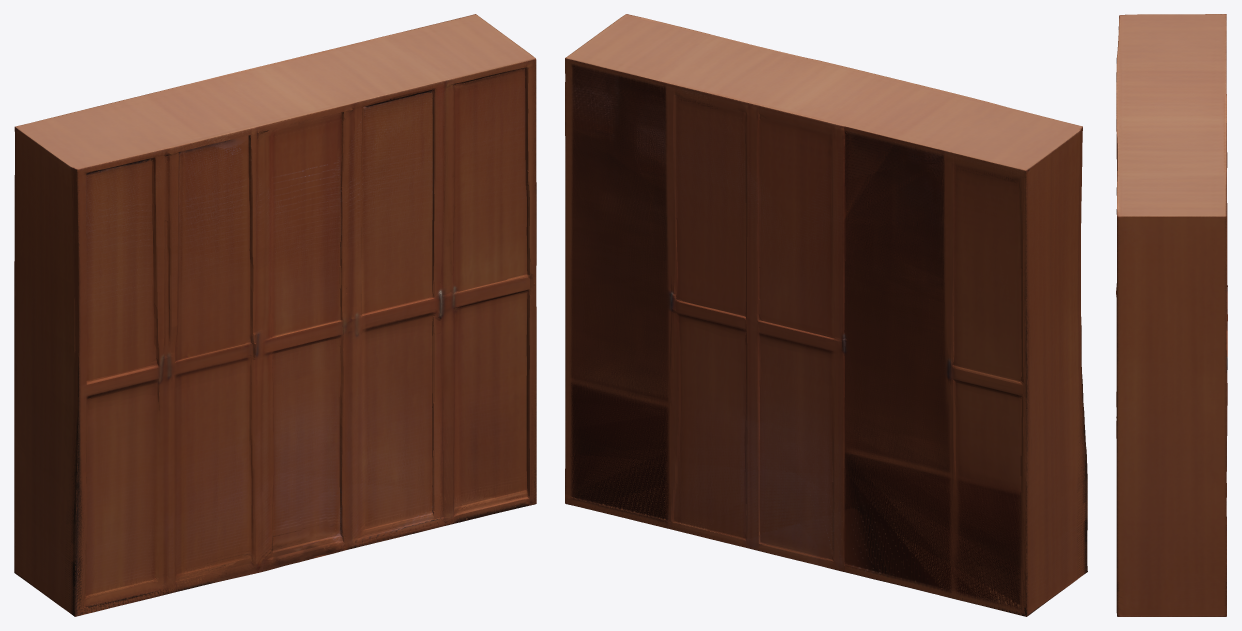
The model's file is voxhammer.glb.
3 renders of one model, left to right at view 1: azimuth 30°, elevation 25°; view 2: azimuth 150°, elevation 25°; view 3: azimuth 270°, elevation 25°, orthographic. The views are drawn at different scales.
Visible parts, largest first — view 1: world; view 2: world; view 3: world.
Boxes of the visible parts, box(x1,y1,x2,y2) form: world: box(14, 14, 536, 616); world: box(565, 14, 1087, 616); world: box(1116, 14, 1227, 616).
Size of the model in its own units: 0.9996 by 0.9217 by 0.2328.
Materials: 1 (1 with a texture image).
